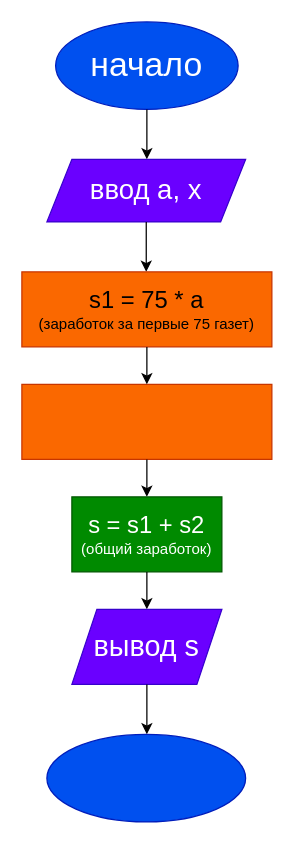
Some shapes in this 294 by 844 pixel diagram are drawn without their labels. The centre of each missing label's shape, as x and y in pixels:
"s2 = 58 * x (заработок за остальные 58 газет)" goes at (x=146, y=421).
"конец" goes at (x=146, y=777).
